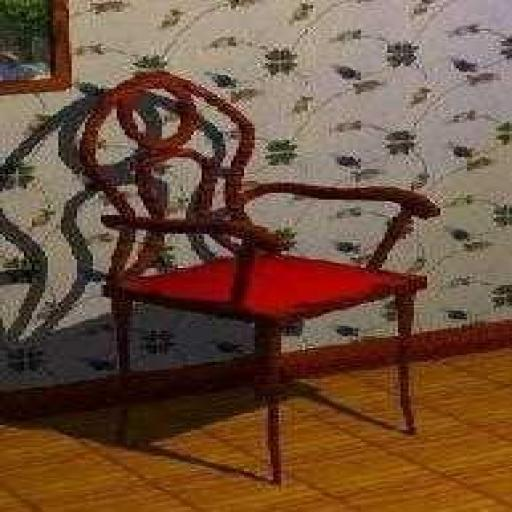chair: (74, 66, 438, 492)
